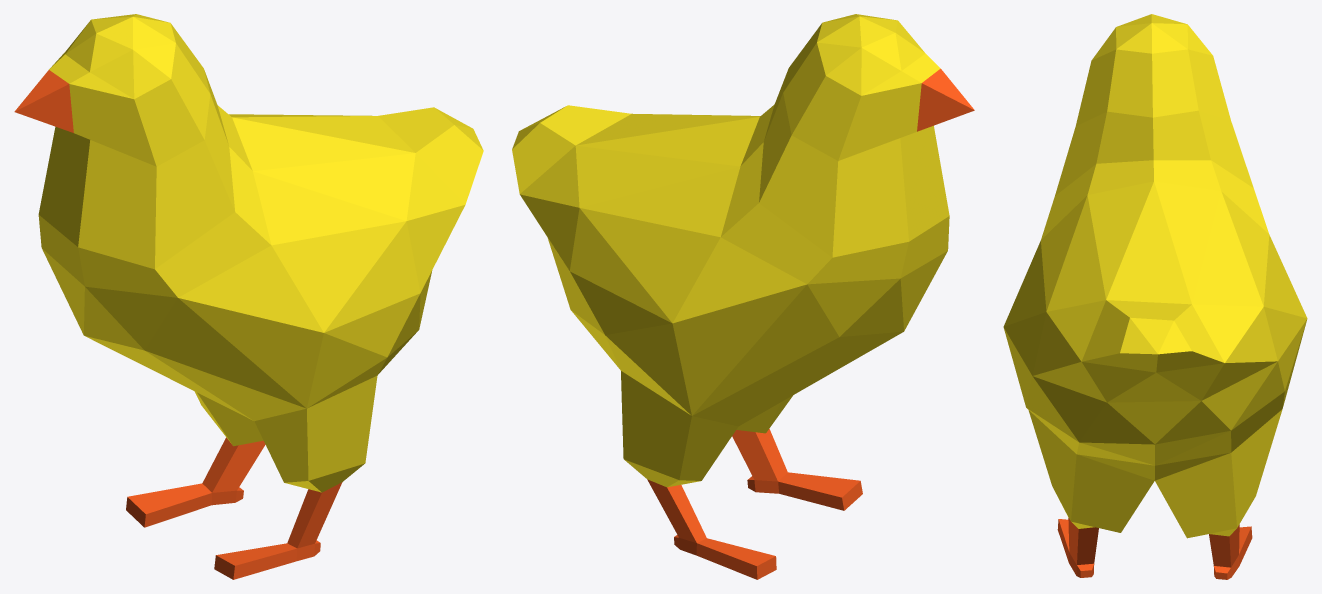
File: StillChick.obj
3 renders of one model, left to right at view 1: azimuth 30°, elevation 25°; view 2: azimuth 150°, elevation 25°; view 3: azimuth 270°, elevation 25°, orthographic. The views are drawn at different scales.
Visible parts, largest first — view 1: Icosphere_Icosphere.003; view 2: Icosphere_Icosphere.003; view 3: Icosphere_Icosphere.003.
Boxes of the visible parts, x1,y1,x2,y2 form: Icosphere_Icosphere.003: [14, 14, 483, 579]; Icosphere_Icosphere.003: [512, 14, 974, 579]; Icosphere_Icosphere.003: [1003, 14, 1307, 579].
Bounding box in the file's own units: 11.96 × 13.59 × 7.54.
Materials: 1 (1 with a texture image).
